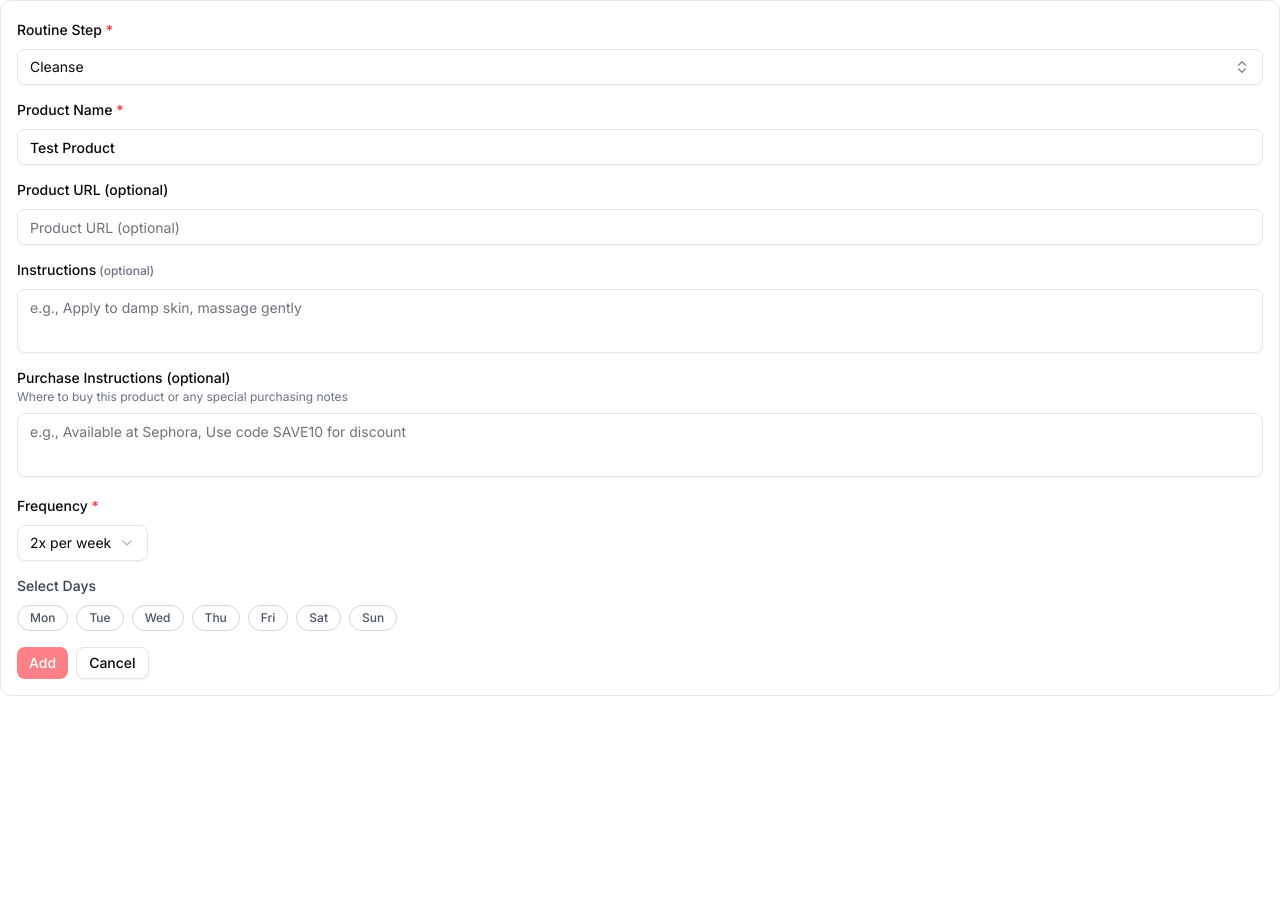
Scenario: ProductForm › Error Message Interaction Behavior › error message disappears when correct number of days selected
Click Monday (error will appear)
Click the button "Mon" at (43,618), box [17,605,68,631]
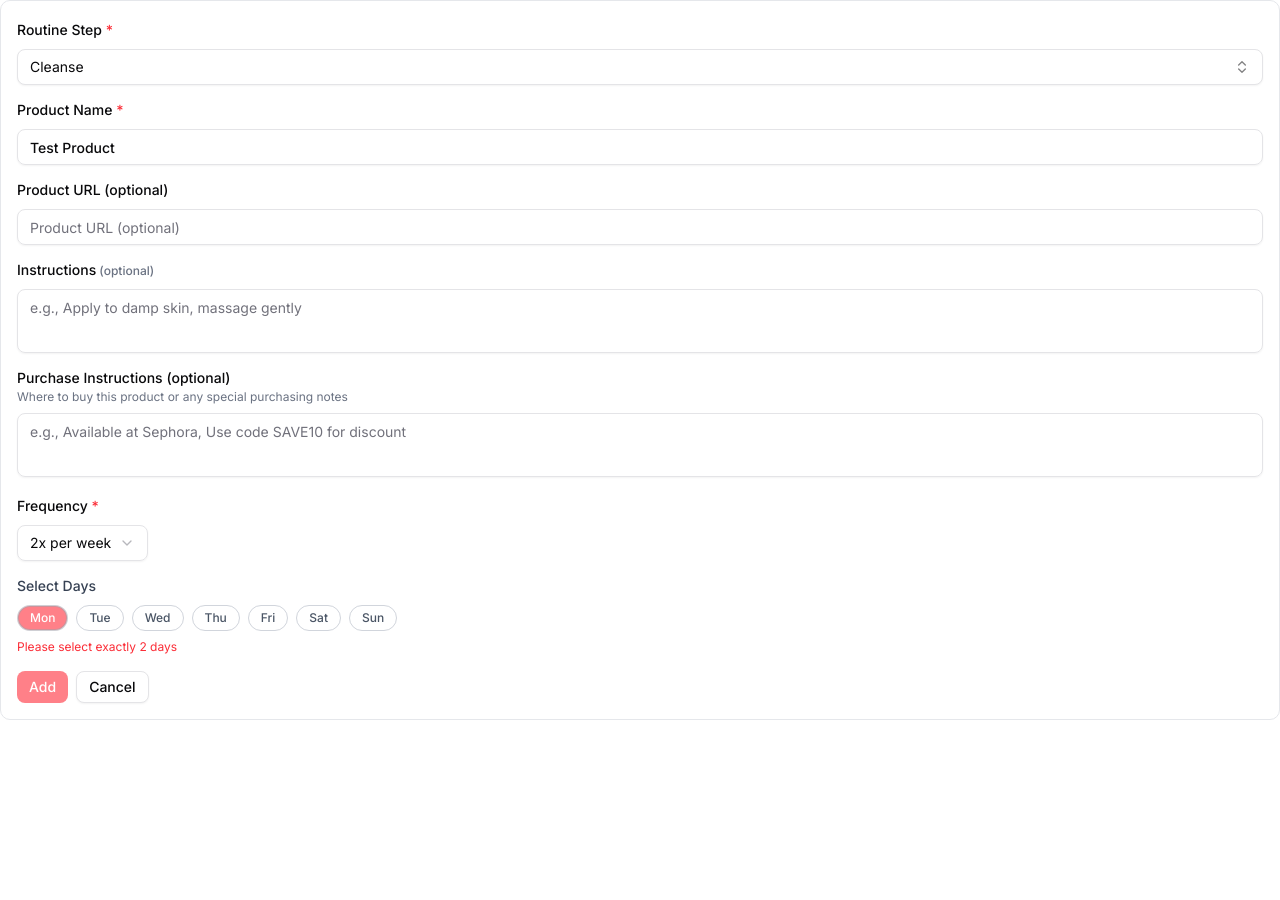
Expected: the text "Please select exactly 2 days" is shown, [17,639,177,654]
Click Tuesday (now have 2 days, error should disappear)
Click the button "Tue" at (100,618), box [76,605,124,631]
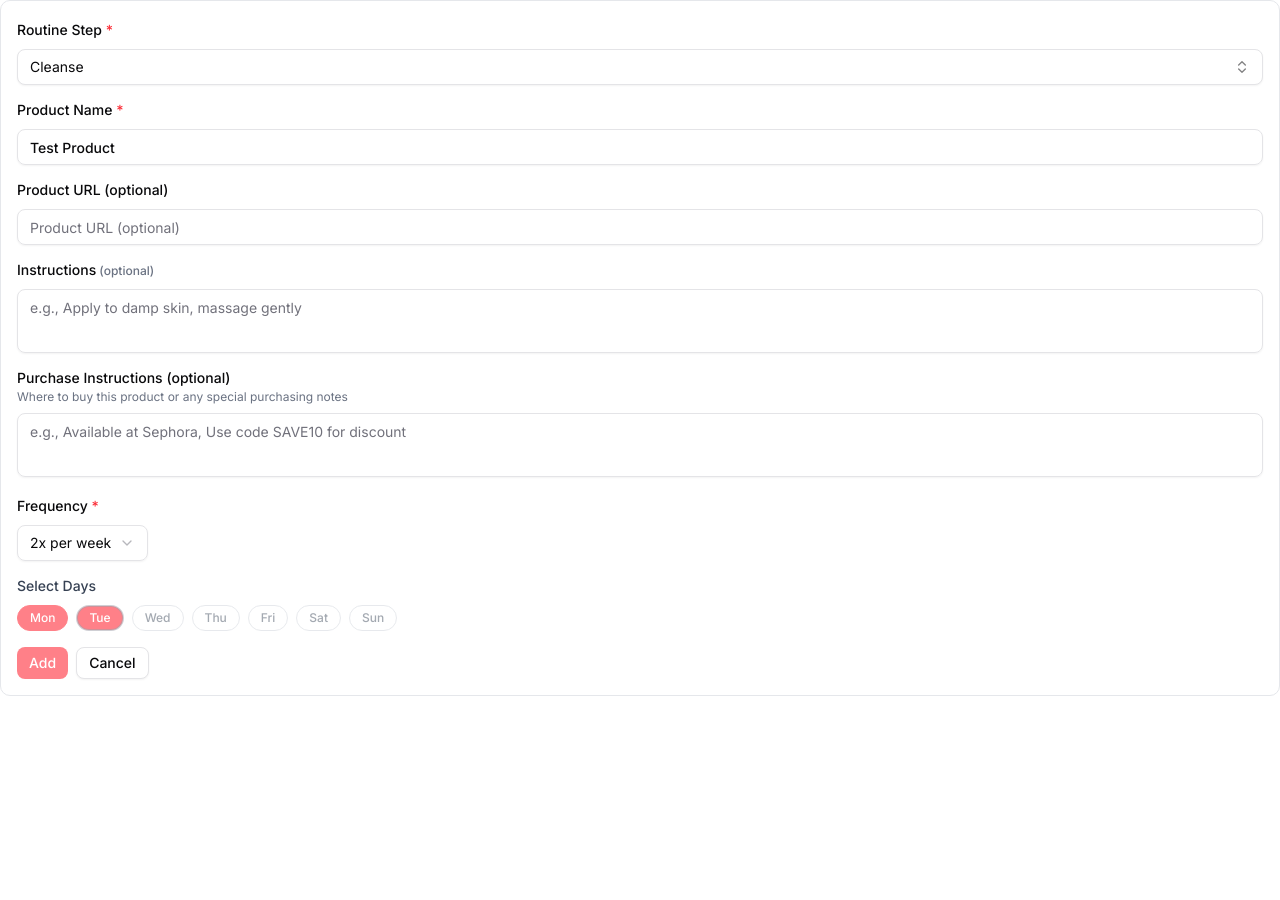
Expected: the text "Please select exactly 2 days" is gone
